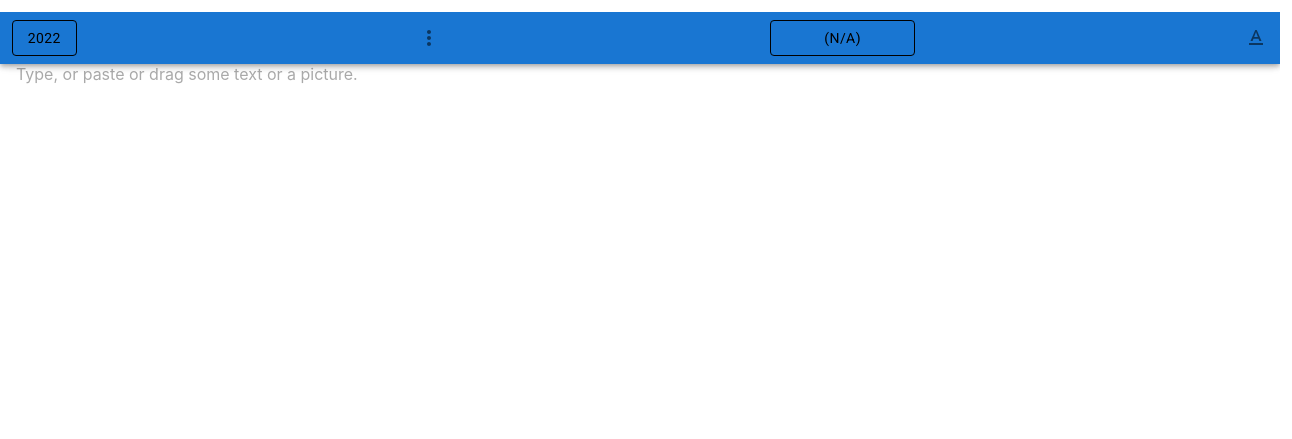
Details component › shows text style menu for rich text notes
Expected: the field is shown, [0,64,1280,116]
Click the button named "Open text style menu": (1256, 38) [1232,14,1280,62]
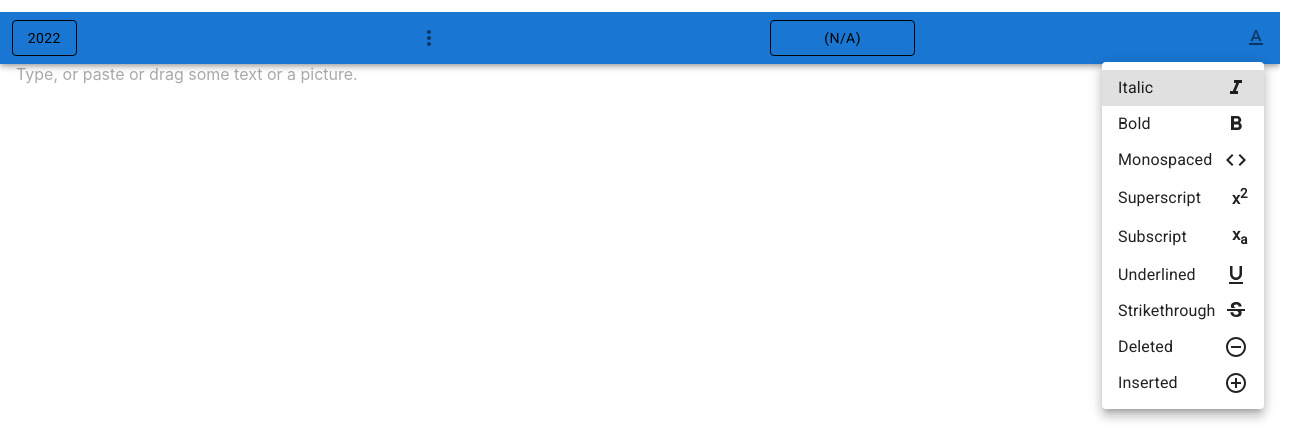
Now the menu item "Italic" is shown, box [1102,70,1264,106]
Now the menu item "Bold" is shown, box [1118,112,1248,136]
Now the menu item "Monospaced" is shown, box [1118,148,1248,172]
